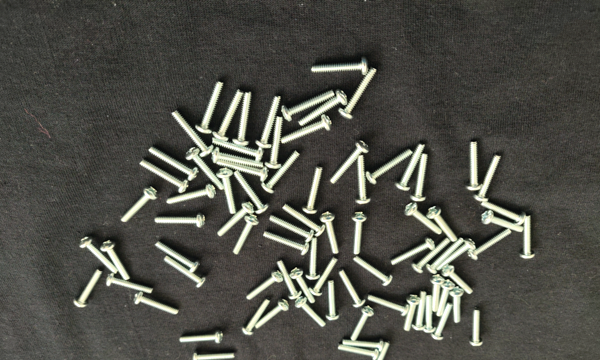longscrew: (337, 67, 377, 121), (171, 110, 215, 158), (298, 89, 349, 128), (365, 147, 413, 186), (148, 146, 200, 182), (281, 89, 336, 123), (184, 147, 226, 191), (330, 140, 370, 185), (139, 159, 190, 194), (212, 89, 245, 142), (261, 151, 301, 194), (233, 170, 270, 216), (280, 114, 333, 146), (154, 240, 202, 274), (394, 142, 426, 193), (195, 81, 225, 134), (282, 203, 327, 238), (472, 153, 503, 203), (467, 228, 512, 262), (78, 237, 119, 274), (254, 95, 282, 149), (164, 255, 208, 289), (120, 186, 159, 224), (426, 237, 465, 275), (410, 238, 451, 274), (217, 201, 256, 238), (436, 238, 477, 272), (268, 214, 316, 243), (390, 237, 436, 267), (353, 254, 394, 287), (99, 239, 131, 281), (215, 159, 270, 183), (262, 230, 310, 257), (404, 203, 443, 236), (212, 138, 265, 162), (310, 55, 369, 76), (309, 256, 339, 297), (301, 166, 326, 215), (426, 206, 459, 243), (232, 91, 254, 146), (241, 297, 272, 336), (73, 269, 103, 309), (276, 258, 303, 302), (246, 270, 284, 301), (480, 201, 527, 226), (166, 183, 217, 206), (338, 268, 366, 309), (212, 147, 264, 169), (232, 214, 259, 256), (294, 296, 327, 329), (441, 264, 475, 296), (255, 299, 290, 330), (133, 292, 180, 315), (264, 116, 284, 170), (106, 273, 155, 295), (216, 167, 238, 215), (465, 140, 485, 192), (367, 294, 411, 317), (409, 153, 429, 203), (289, 267, 316, 304), (481, 210, 524, 233), (353, 154, 372, 205), (320, 211, 341, 255), (350, 306, 375, 342), (154, 212, 206, 229), (431, 302, 453, 342), (519, 215, 536, 261), (436, 280, 456, 318), (337, 343, 380, 360), (179, 330, 224, 346), (305, 237, 321, 281), (403, 294, 421, 332), (412, 291, 428, 333), (469, 307, 485, 348), (353, 212, 368, 255), (342, 338, 385, 353), (325, 280, 339, 322), (423, 294, 437, 335), (450, 287, 465, 325), (430, 275, 445, 313), (368, 341, 392, 360), (192, 351, 236, 360)
